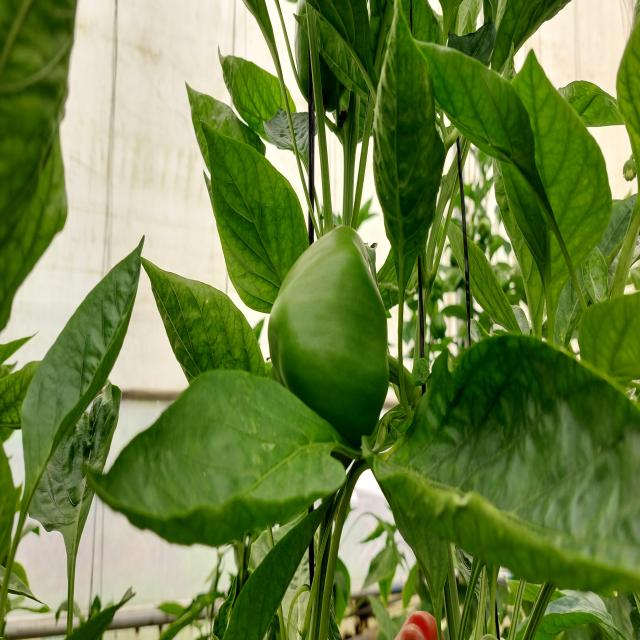Green--Not-ready-to-harvest: (269, 224, 391, 449)
